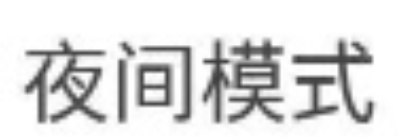TextView: (1, 1, 397, 139)
